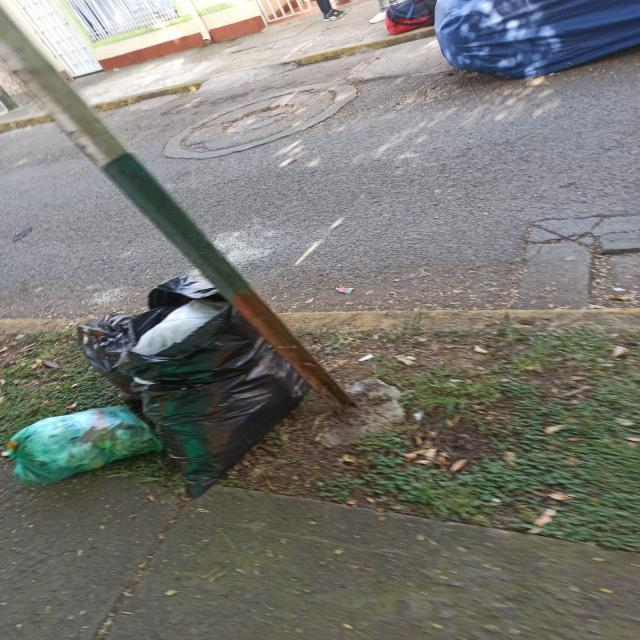Trashbag: (75, 263, 299, 506)
